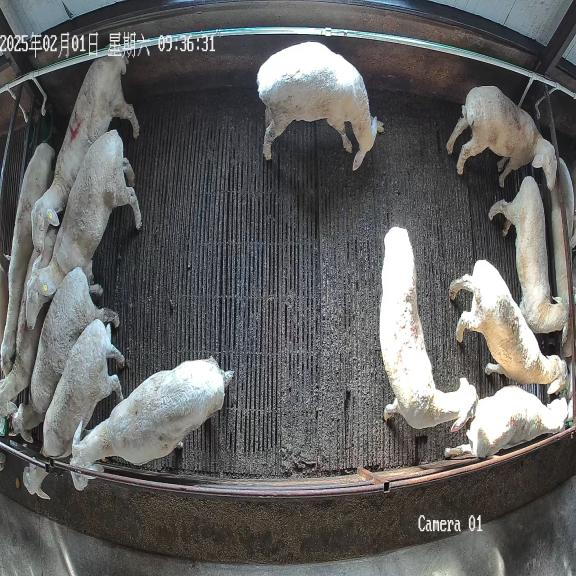stand: (70, 358, 233, 490), (31, 56, 140, 252), (379, 226, 479, 432), (13, 268, 119, 440), (23, 319, 124, 499), (256, 42, 384, 170), (450, 260, 567, 393), (0, 143, 55, 376), (488, 176, 568, 333), (446, 86, 557, 190), (0, 226, 57, 417), (445, 386, 569, 458)
